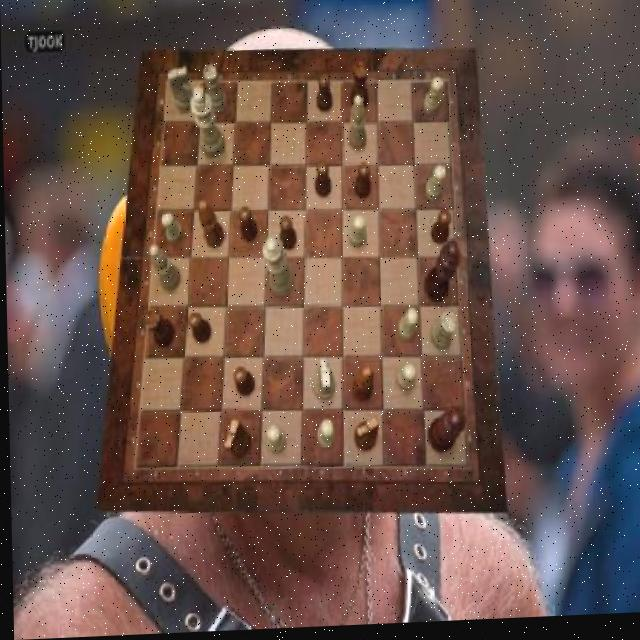bishop: (197, 202, 223, 252), (351, 369, 373, 404)
black-bishop: (423, 242, 461, 306)
black-king: (221, 421, 249, 459), (354, 419, 379, 455)
black-knight: (187, 313, 211, 346), (430, 213, 451, 248), (238, 208, 256, 243), (314, 164, 331, 201), (317, 76, 333, 115), (278, 219, 296, 253), (233, 368, 253, 398), (354, 166, 371, 201)
black-pawn: (426, 410, 466, 457)
black-queen: (144, 309, 174, 349), (349, 66, 367, 114)
black-rook: (149, 246, 181, 295), (347, 98, 365, 153)
white-bishop: (189, 89, 224, 163)
white-king: (169, 69, 194, 115), (311, 363, 334, 403)
white-knight: (423, 82, 444, 120), (425, 169, 446, 206), (159, 214, 182, 247), (397, 312, 417, 345), (347, 218, 365, 251), (396, 367, 416, 394), (265, 428, 284, 456), (315, 422, 333, 451)
white-pawn: (261, 238, 293, 300)
white-queen: (204, 66, 228, 116), (429, 315, 455, 353)
